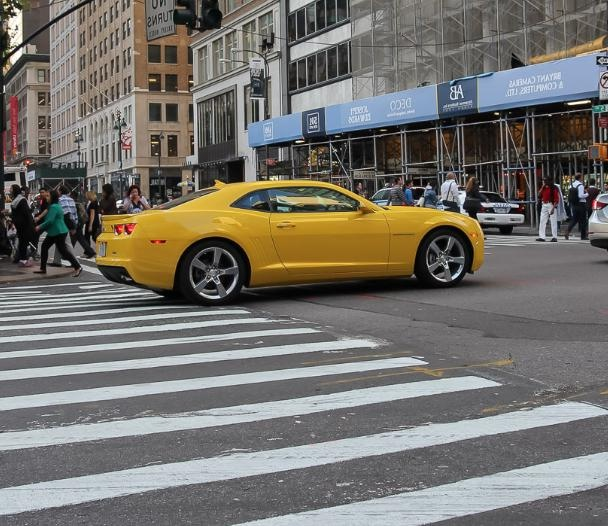car: (86, 173, 499, 311)
